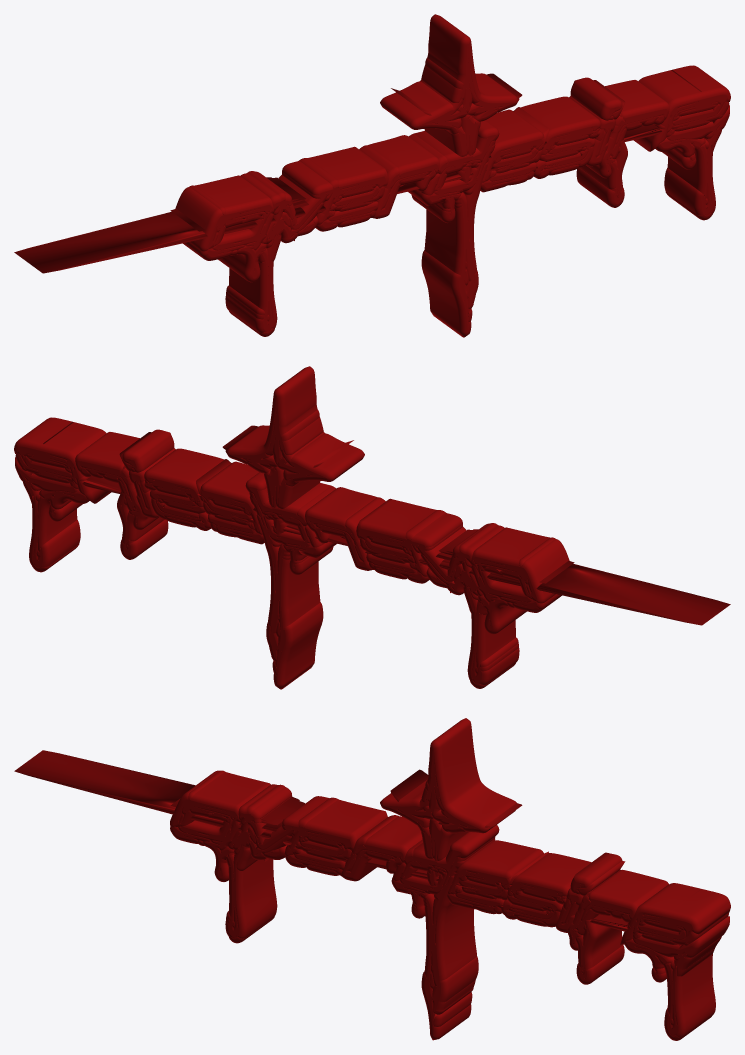
The model's file is HALLOWEEEN.glb.
The picture shows the model from 3 angles, top to bottom: view 1: azimuth 30°, elevation 25°; view 2: azimuth 150°, elevation 25°; view 3: azimuth 330°, elevation 25°; orthographic projection.
Visible parts, largest first — view 1: path1; view 2: path1; view 3: path1.
Part boxes in pixels (x1,y1,x2,y2): path1: [14, 14, 730, 337]; path1: [14, 366, 730, 689]; path1: [14, 718, 730, 1040].
Bounding box in the file's own units: 0.2741 × 0.1147 × 0.024.
